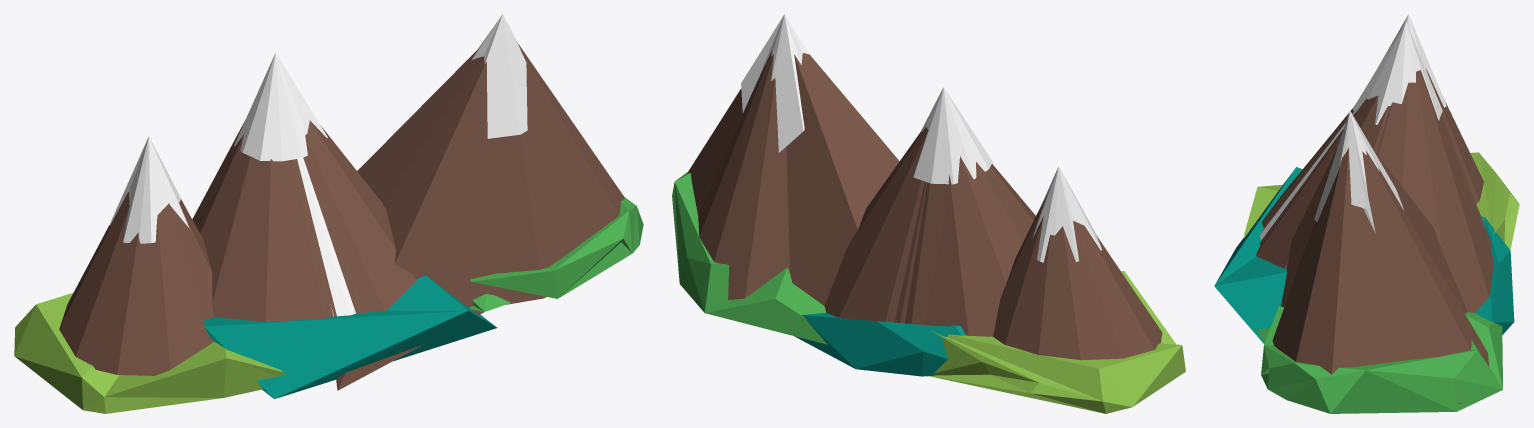
The model's file is Snowy Hills.glb.
The picture shows the model from 3 angles, left to right: view 1: azimuth 30°, elevation 25°; view 2: azimuth 150°, elevation 25°; view 3: azimuth 270°, elevation 25°; orthographic projection. The views are drawn at different scales.
Visible parts, largest first — view 1: Node; view 2: Node; view 3: Node.
Part boxes in pixels (<box>): Node: <box>14,14,643,413</box>; Node: <box>672,14,1185,413</box>; Node: <box>1214,14,1519,413</box>.
Bounding box in the file's own units: 2.81 × 1.43 × 1.3.
